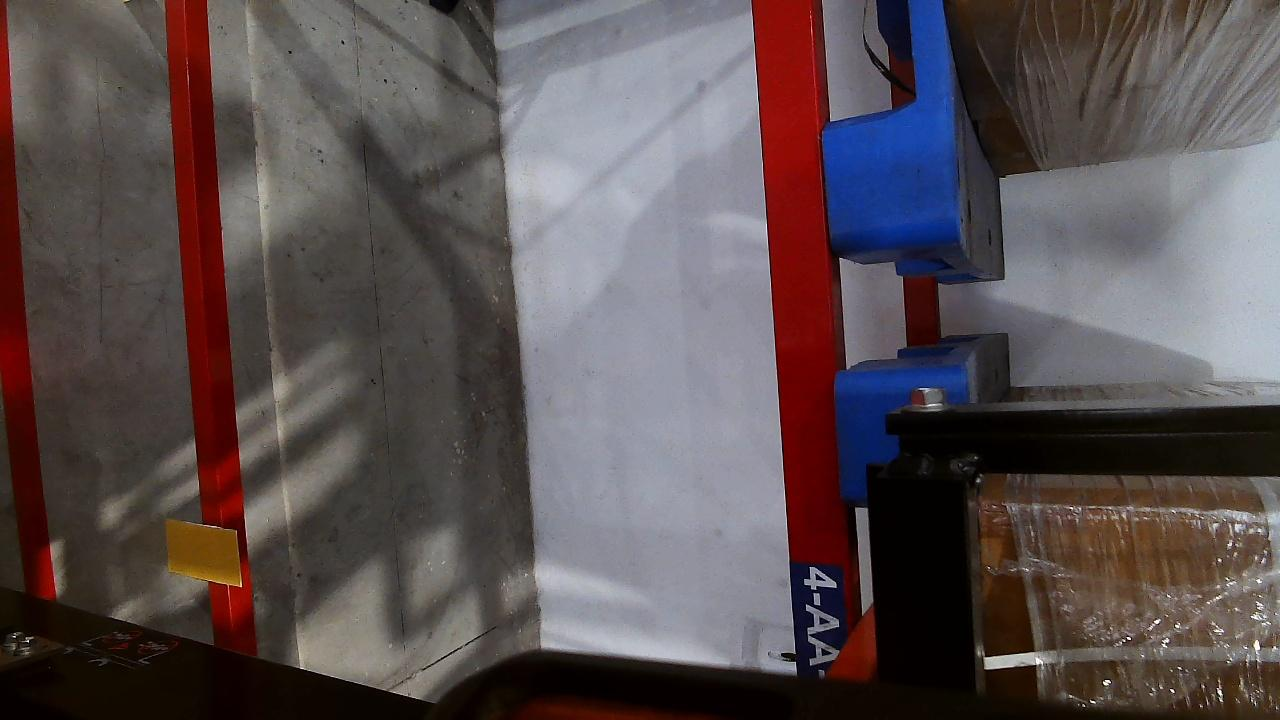h_rack: (750, 0, 847, 673)
orange_strip: (164, 520, 240, 586)
red_line: (0, 1, 38, 583)
small_pallet: (815, 0, 961, 240)
